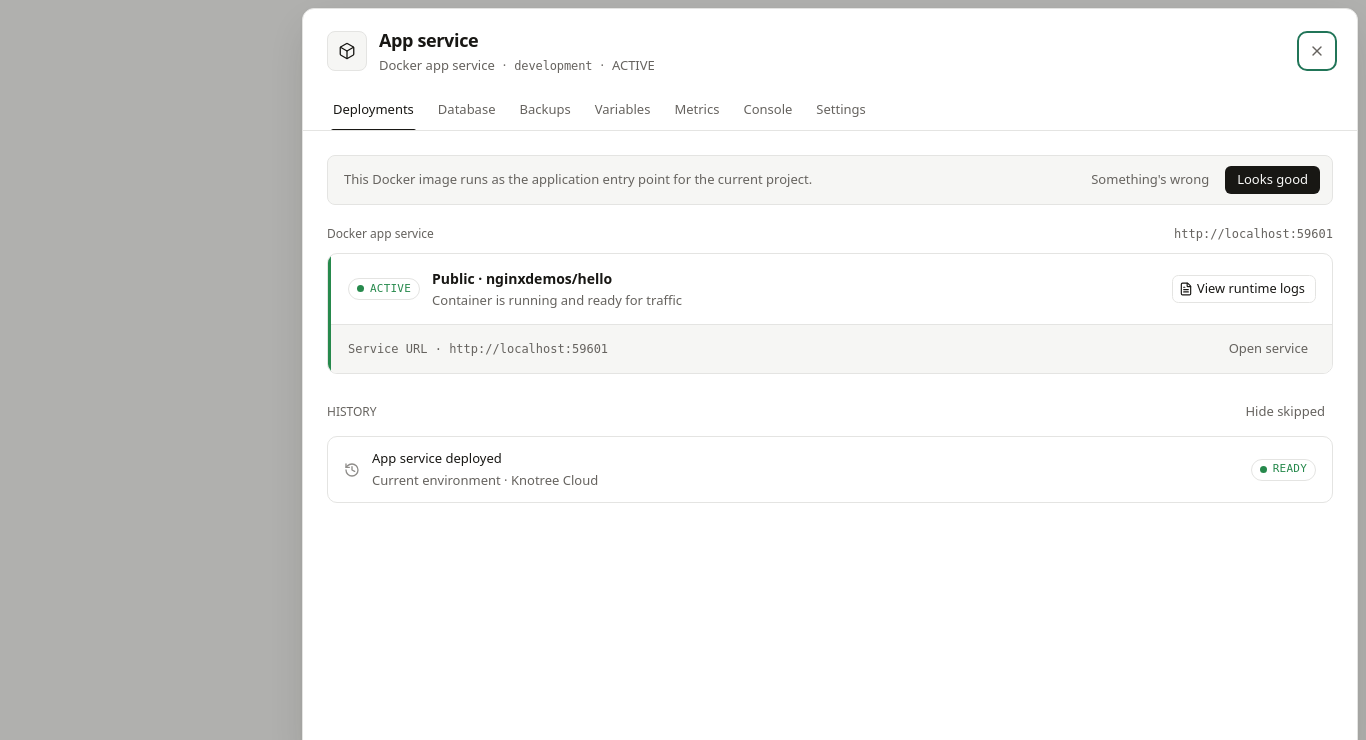
ResourceWorkspace settings pane › keeps the current port when the value is invalid
Click the tab "Settings" at (841, 110), box [806, 90, 876, 130]
(page scrolled)
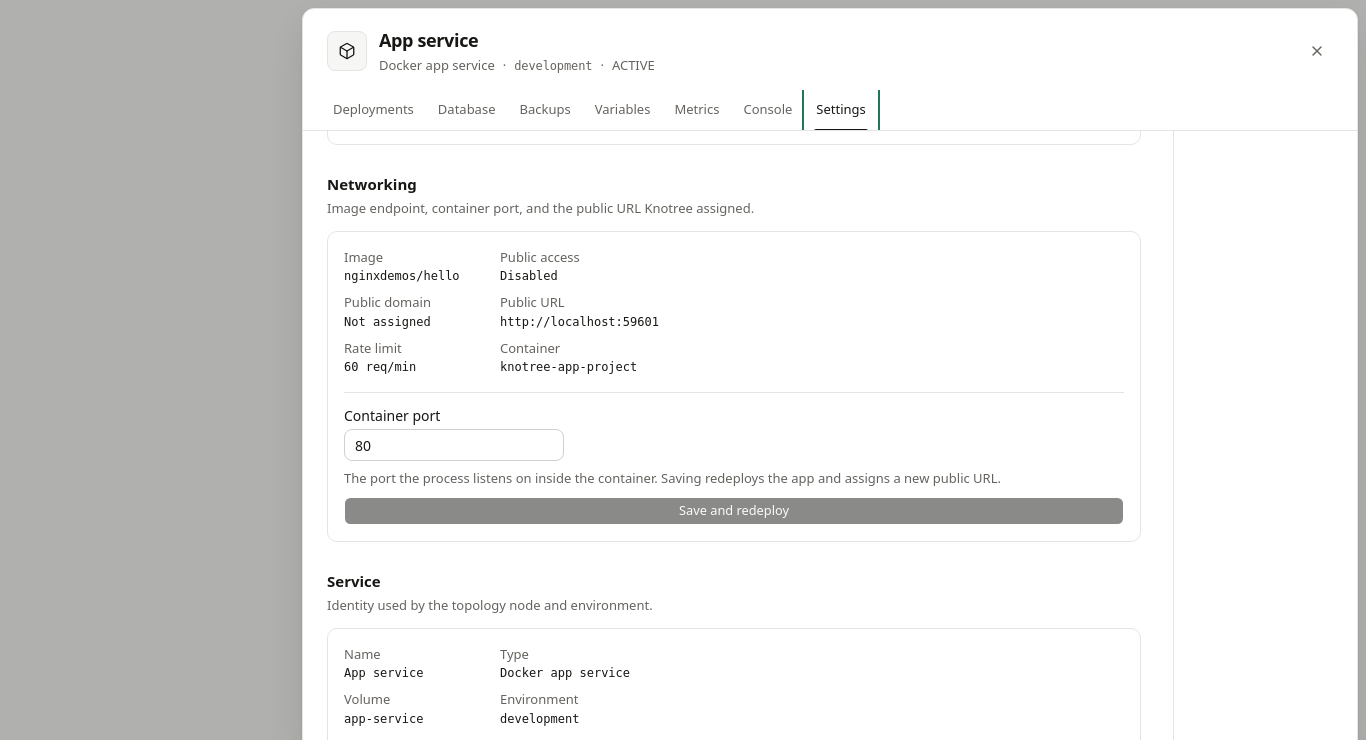
Replace the text in the number field labelled "Container port" with "0" at (454, 445), box [344, 429, 564, 461]
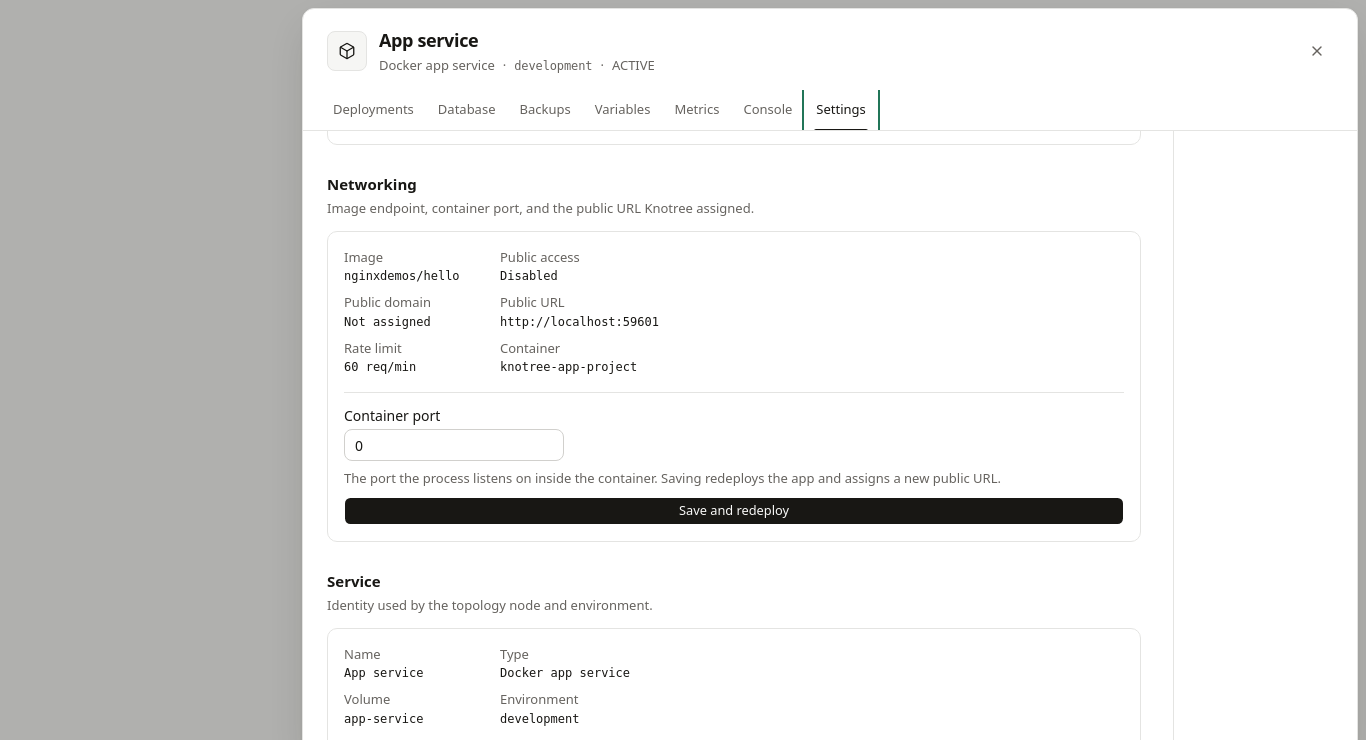
Submit the form labelled "Container port", box [344, 392, 1124, 524]
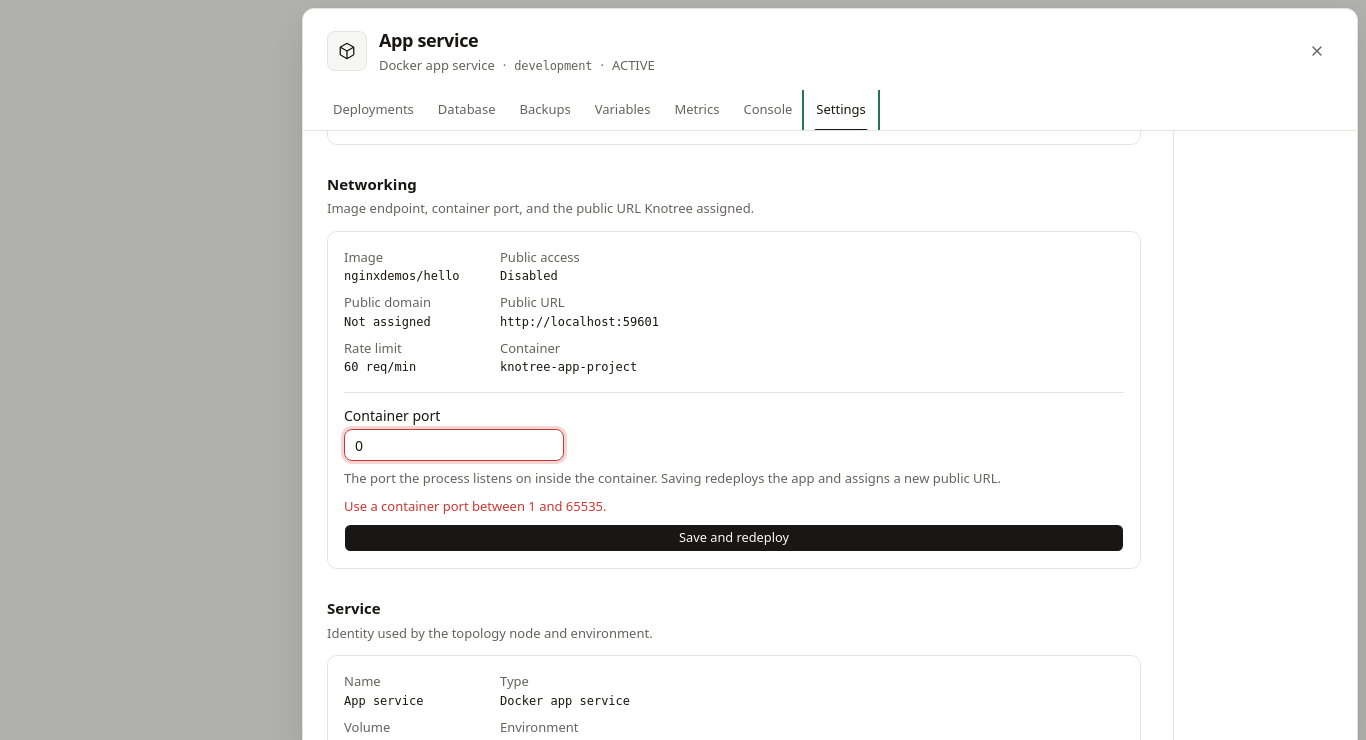
Expected: the text "Use a container port between 1 and 65535." is shown, [344, 496, 606, 514]
